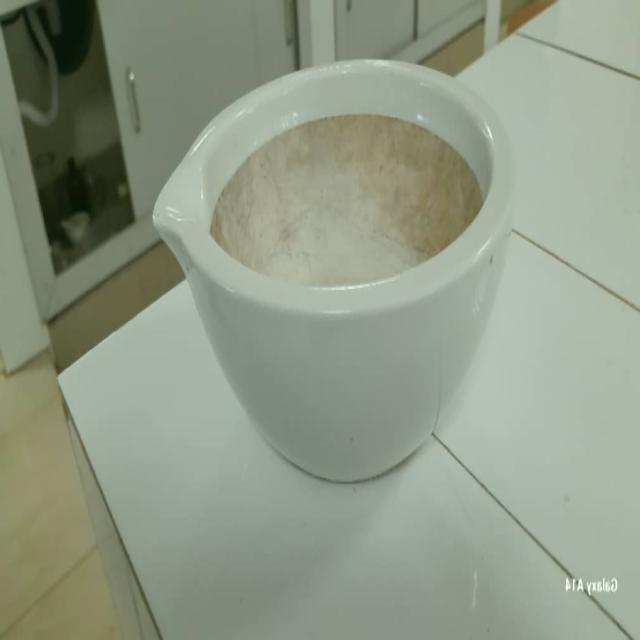Mortar and Pestle: (154, 55, 518, 486)
